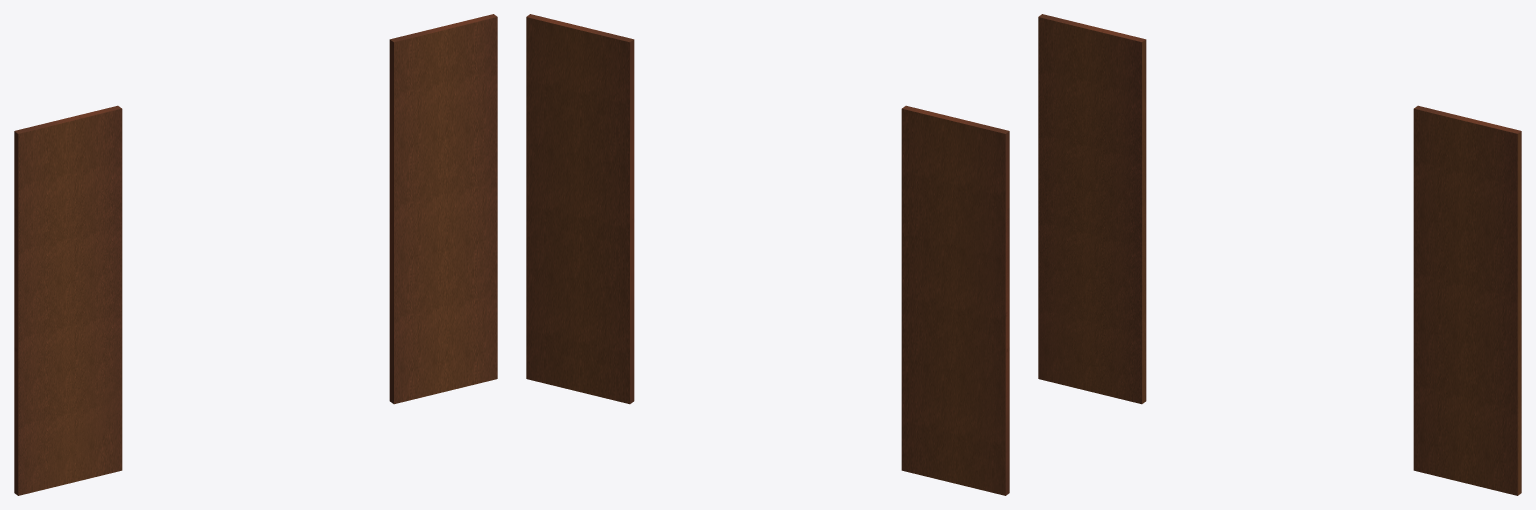
Rendered from bardoorway.obj.
3 renders of one model, left to right at view 1: azimuth 30°, elevation 25°; view 2: azimuth 150°, elevation 25°; view 3: azimuth 330°, elevation 25°, orthographic.
Parts seen in each view (by area): view 1: Cube_Cube.001_Cube_Cube.002_Cube_Cube.001_Cube_Cube.004, Cube_Cube.001_Cube_Cube.006, Cube_Cube.001_Cube_Cube.001_Cube_Cube.001_Cube_Cube.003; view 2: Cube_Cube.001_Cube_Cube.002_Cube_Cube.001_Cube_Cube.004, Cube_Cube.001_Cube_Cube.001_Cube_Cube.001_Cube_Cube.003, Cube_Cube.001_Cube_Cube.006; view 3: Cube_Cube.001_Cube_Cube.002_Cube_Cube.001_Cube_Cube.004, Cube_Cube.001_Cube_Cube.006, Cube_Cube.001_Cube_Cube.001_Cube_Cube.001_Cube_Cube.003.
Boxes of the visible parts, bbox=[...] form: Cube_Cube.001_Cube_Cube.002_Cube_Cube.001_Cube_Cube.004: bbox=[389, 14, 497, 404]; Cube_Cube.001_Cube_Cube.006: bbox=[14, 185, 122, 492]; Cube_Cube.001_Cube_Cube.001_Cube_Cube.001_Cube_Cube.003: bbox=[14, 105, 122, 495]; Cube_Cube.001_Cube_Cube.002_Cube_Cube.001_Cube_Cube.004: bbox=[526, 14, 634, 404]; Cube_Cube.001_Cube_Cube.001_Cube_Cube.001_Cube_Cube.003: bbox=[901, 105, 1009, 495]; Cube_Cube.001_Cube_Cube.006: bbox=[928, 197, 1009, 492]; Cube_Cube.001_Cube_Cube.002_Cube_Cube.001_Cube_Cube.004: bbox=[1413, 105, 1521, 495]; Cube_Cube.001_Cube_Cube.006: bbox=[1038, 93, 1146, 401]; Cube_Cube.001_Cube_Cube.001_Cube_Cube.001_Cube_Cube.003: bbox=[1038, 14, 1146, 404].
Bounding box in the file's own units: 26.25 × 18.93 × 0.3897.
